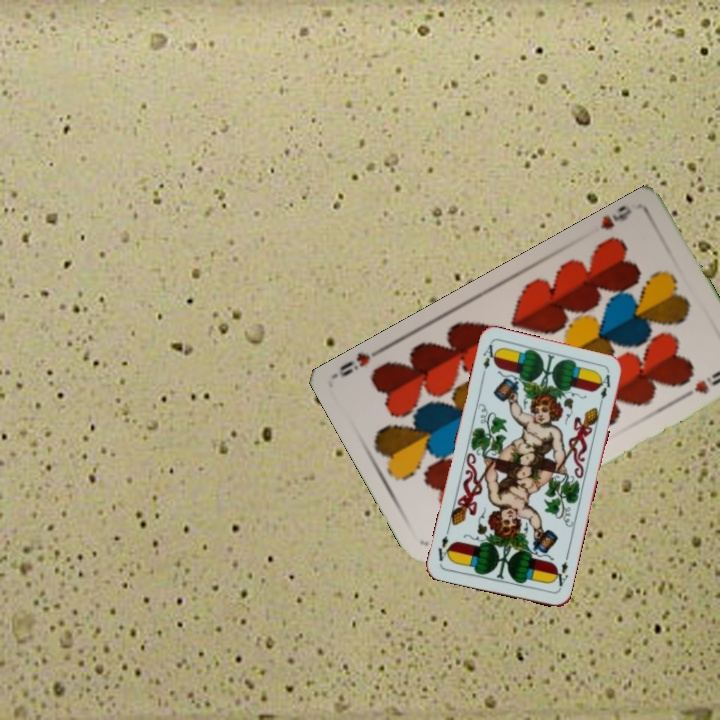EA: (478, 340, 499, 380), (549, 557, 571, 592)
H9: (596, 202, 635, 233)
